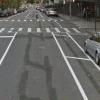Crosswalk: (2, 13, 82, 36)
